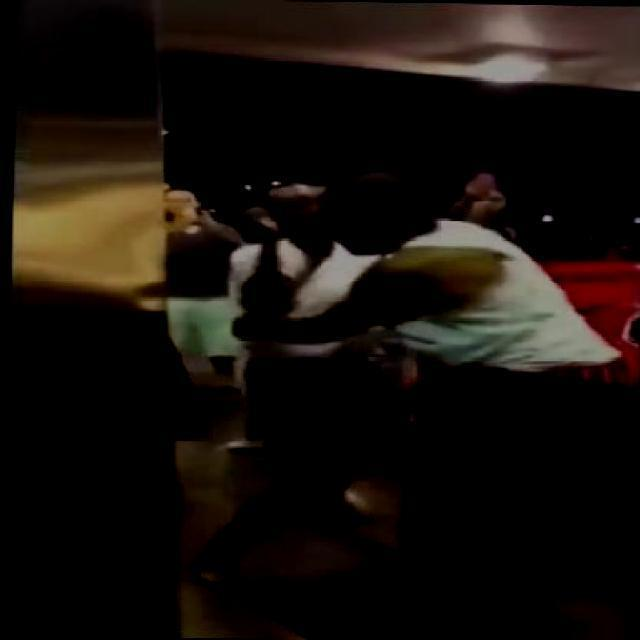fight: (219, 169, 627, 634)
